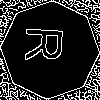R: (25, 25, 72, 64)
